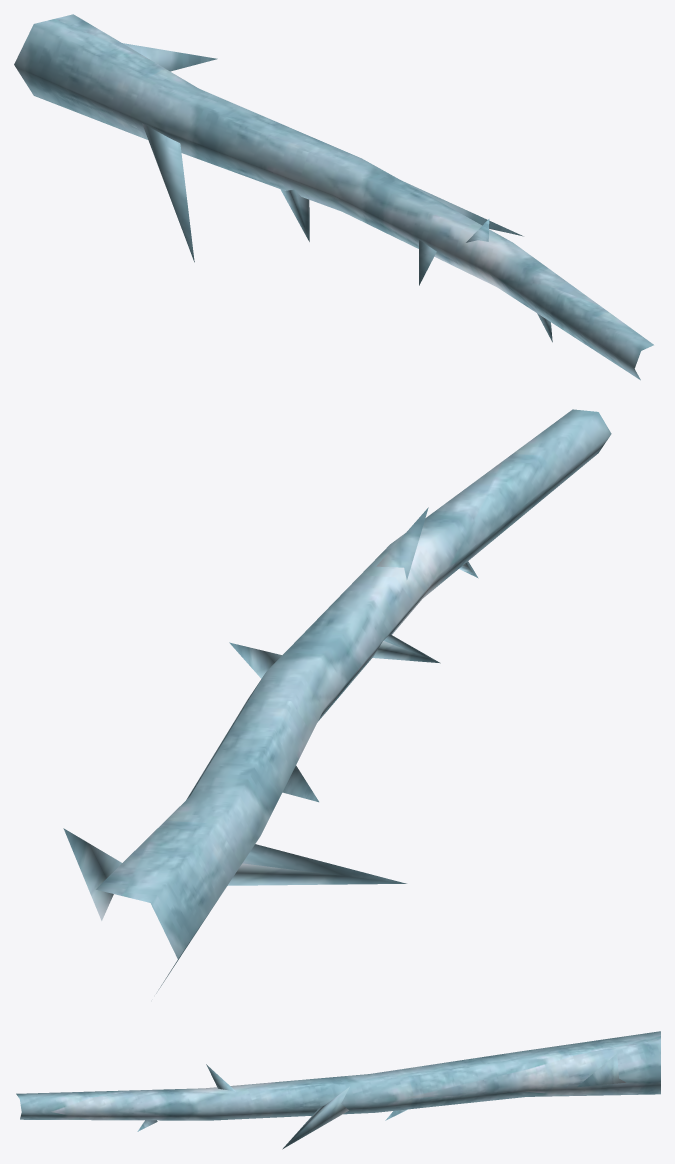
3 renders of one model, top to bottom at view 1: azimuth 30°, elevation 25°; view 2: azimuth 150°, elevation 25°; view 3: azimuth 270°, elevation 25°, orthographic. The views are drawn at different scales.
Parts seen in each view (by area): view 1: model_Object24; view 2: model_Object24; view 3: model_Object24.
Boxes of the visible parts, <box> form: model_Object24: <box>14,14,653,380</box>; model_Object24: <box>63,409,611,993</box>; model_Object24: <box>16,1031,660,1149</box>.
Size of the model in its own units: 1.79 by 0.9013 by 6.13.
Materials: 1 (1 with a texture image).
